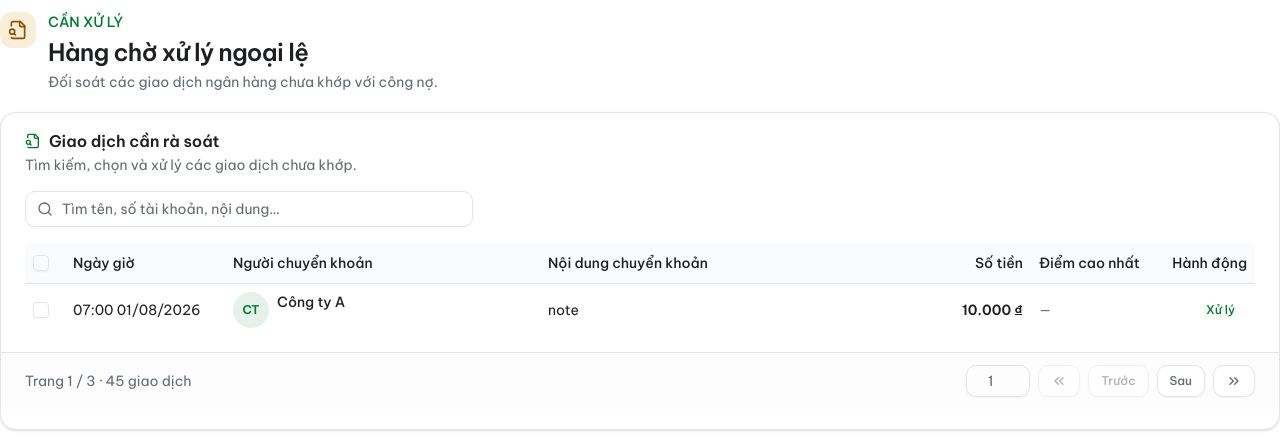
Test: ExceptionsPage › keeps the current page and pagination on screen while the next page loads
This screenshot has width=1280, height=448.
Click the button "Sau" at (1181, 380), box [1157,364,1205,396]
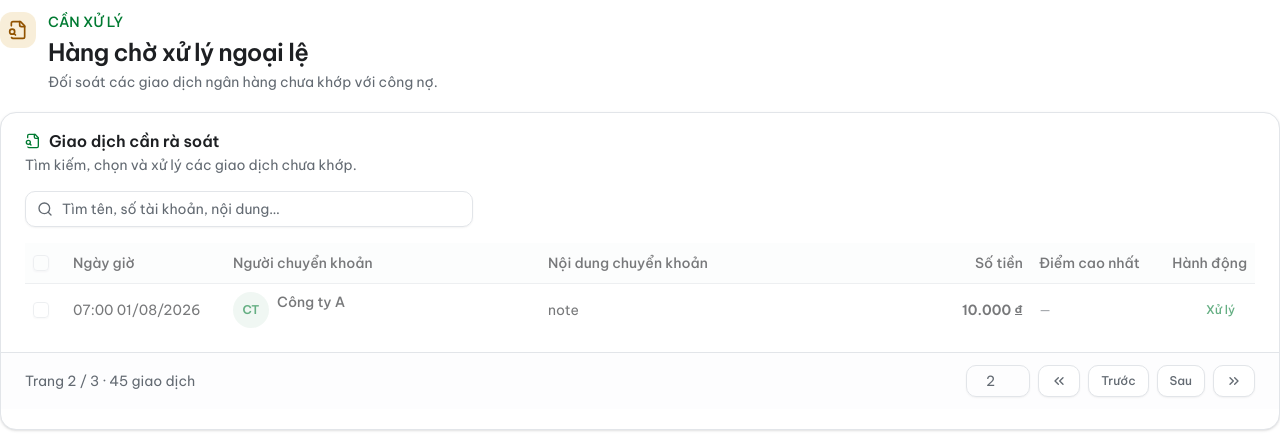
Result: the text "Trang 2 / 3 · 45 giao dịch" is shown at [25,370,195,390]
